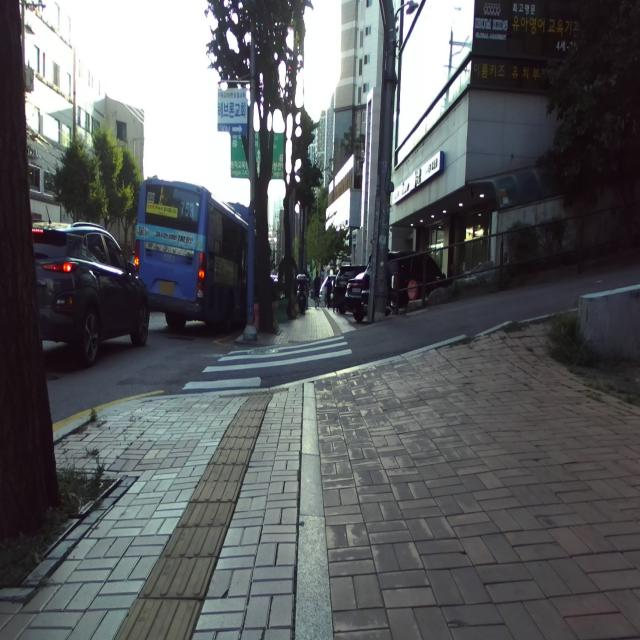횡단보도: (182, 336, 352, 389)
